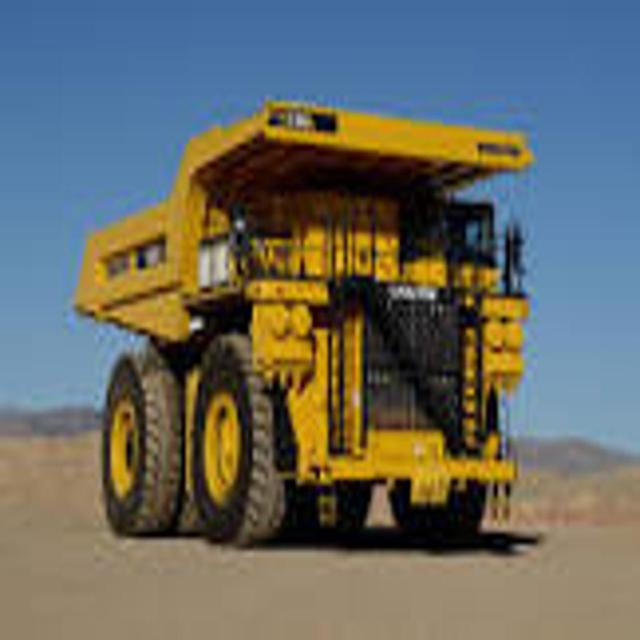dump_truck: (74, 85, 538, 558)
